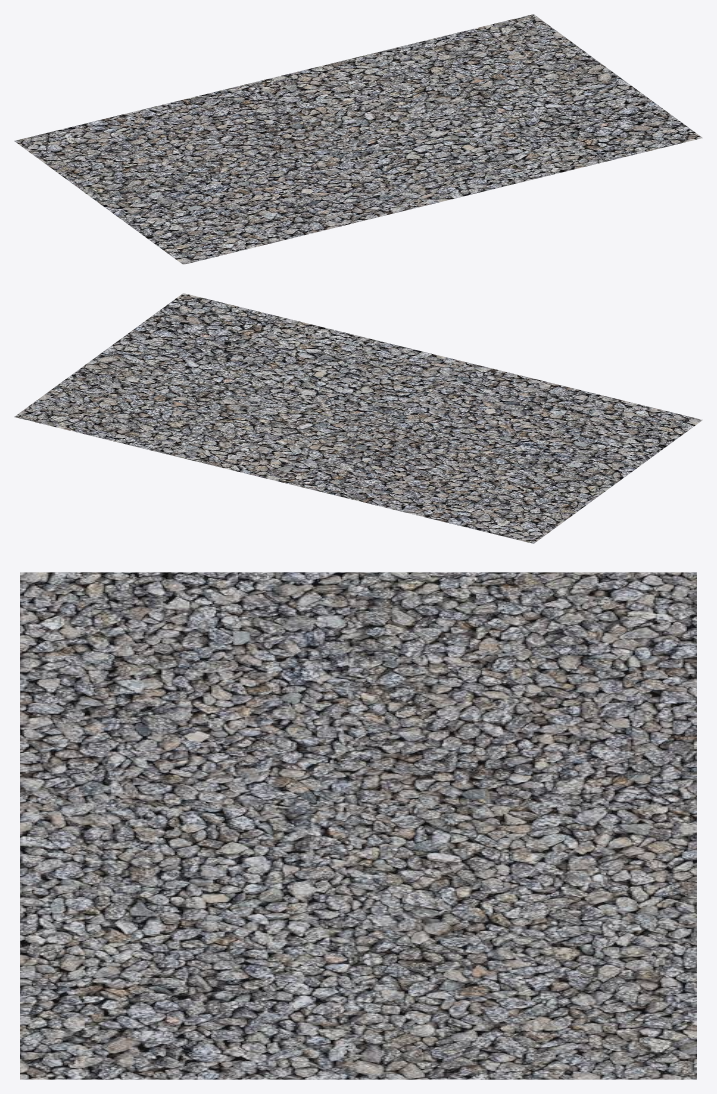
File: StraightGravelPath.fbx
3 views of the same model, one above another, from view 1: azimuth 30°, elevation 25°; view 2: azimuth 150°, elevation 25°; view 3: azimuth 270°, elevation 25° (orthographic). The views are drawn at different scales.
Visible parts, largest first — view 1: StraightGravelPath; view 2: StraightGravelPath; view 3: StraightGravelPath.
Boxes of the visible parts, x1=… form: StraightGravelPath: x1=14, y1=14, x2=702, y2=264; StraightGravelPath: x1=14, y1=293, x2=702, y2=543; StraightGravelPath: x1=20, y1=572, x2=696, y2=1079.
Size of the model in its own units: 20.98 by 1.35e-06 by 11.84.
Materials: 1 (1 with a texture image).
